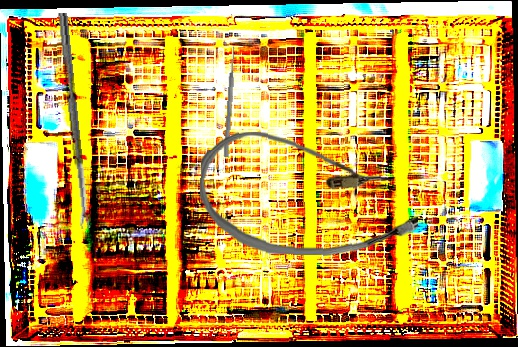Cannula: (197, 130, 422, 259)
Pusher: (222, 45, 238, 158)
Surgical Spoon: (57, 12, 90, 230)
